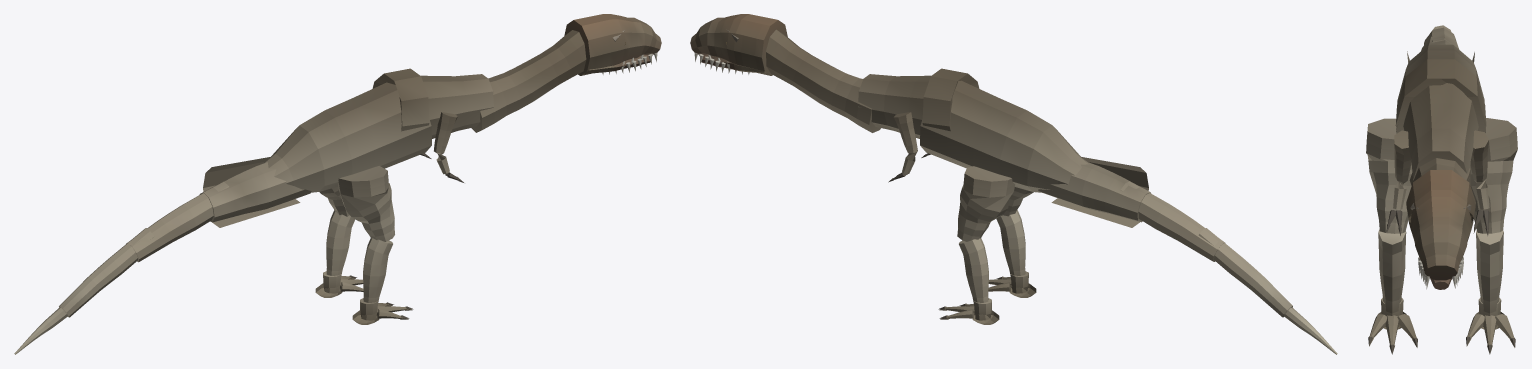
The model's file is trex.glb.
The picture shows the model from 3 angles, left to right: view 1: azimuth 30°, elevation 25°; view 2: azimuth 150°, elevation 25°; view 3: azimuth 270°, elevation 25°; orthographic projection. The views are drawn at different scales.
Parts seen in each view (by area): view 1: bodym, neckm, headm, tailm1, thighmR, tailm2, tailm3, shinmR, shinmL, hipm, armmR, footmR (+2 smaller); view 2: bodym, neckm, headm, tailm1, thighmL, tailm2, tailm3, shinmL, shinmR, hipm, armmL, footmL (+1 smaller); view 3: bodym, headm, thighmL, thighmR, shinmR, shinmL, armmL, armmR, footmR, footmL, neckm, teethUm (+5 smaller).
Part boxes in pixels (box(x1,y1,x2,y2)): bodym: box(262, 68, 493, 192); neckm: box(471, 30, 586, 132); headm: box(564, 14, 661, 75); tailm1: box(199, 162, 311, 222); thighmR: box(338, 166, 394, 241); tailm2: box(126, 181, 228, 262); tailm3: box(59, 228, 154, 317); shinmR: box(360, 238, 392, 320); shinmL: box(323, 210, 355, 293); hipm: box(203, 156, 300, 227); armmR: box(434, 112, 457, 174); footmR: box(352, 303, 412, 324); bodym: box(858, 68, 1088, 192); neckm: box(766, 29, 880, 132); headm: box(690, 14, 787, 75); tailm1: box(1038, 161, 1150, 222); thighmL: box(957, 166, 1015, 241); tailm2: box(1120, 181, 1224, 261); tailm3: box(1198, 228, 1292, 317); shinmL: box(959, 238, 991, 320); shinmR: box(996, 210, 1028, 293); hipm: box(1051, 156, 1148, 227); armmL: box(894, 112, 917, 174); footmL: box(939, 304, 999, 324); bodym: box(1395, 44, 1486, 180); headm: box(1406, 170, 1475, 280); thighmL: box(1470, 118, 1517, 233); thighmR: box(1366, 118, 1412, 233); shinmR: box(1378, 229, 1406, 326); shinmL: box(1476, 230, 1503, 326); armmL: box(1470, 130, 1489, 209); armmR: box(1393, 130, 1411, 209); footmR: box(1368, 312, 1416, 351); footmL: box(1466, 312, 1514, 352); neckm: box(1409, 158, 1470, 185); teethUm: box(1418, 257, 1463, 289).
Bounding box in the file's own units: 11.29 × 3.87 × 1.74.
